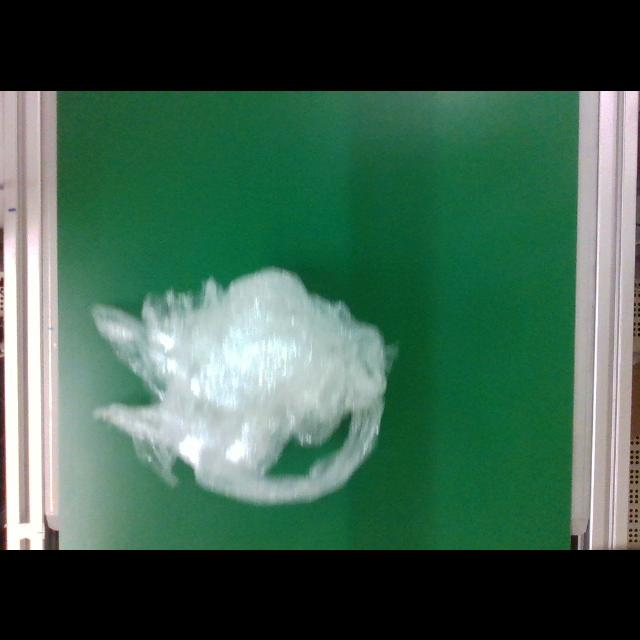scrap_plastic: (88, 264, 400, 506)
